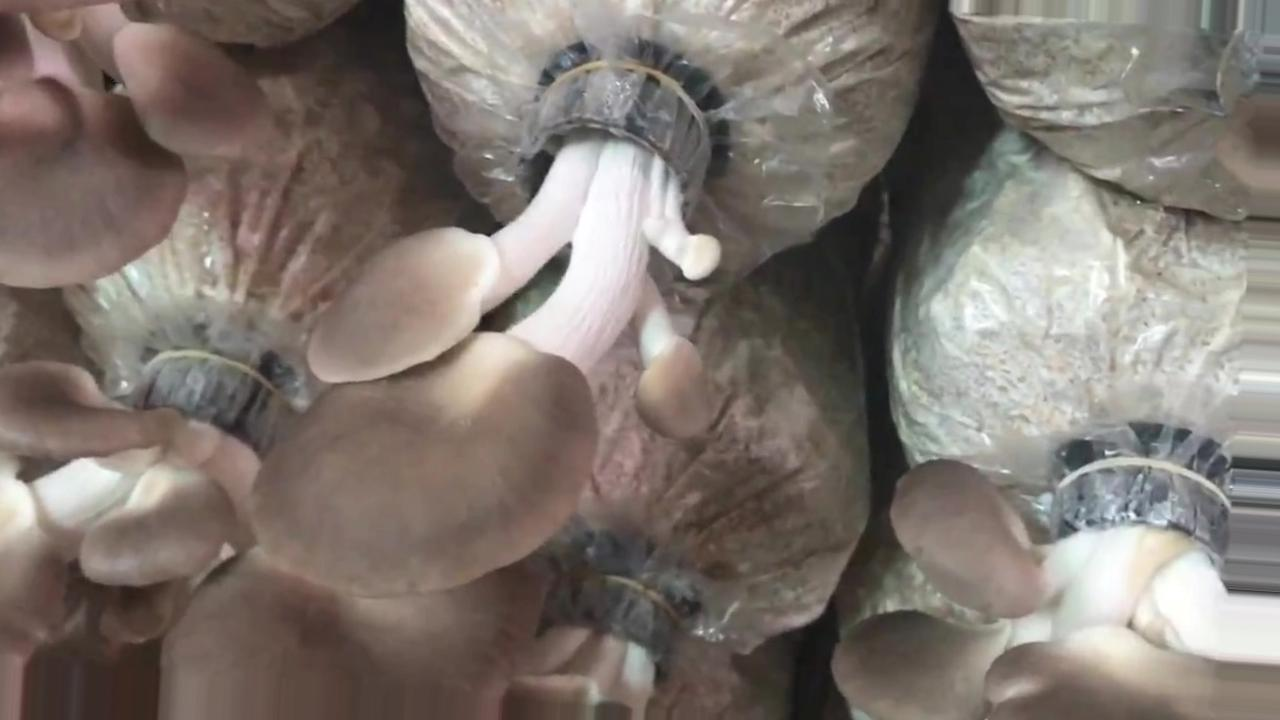nam: (249, 39, 732, 602), (1, 338, 511, 717), (828, 443, 1277, 720), (1, 1, 266, 288), (504, 541, 700, 720)
